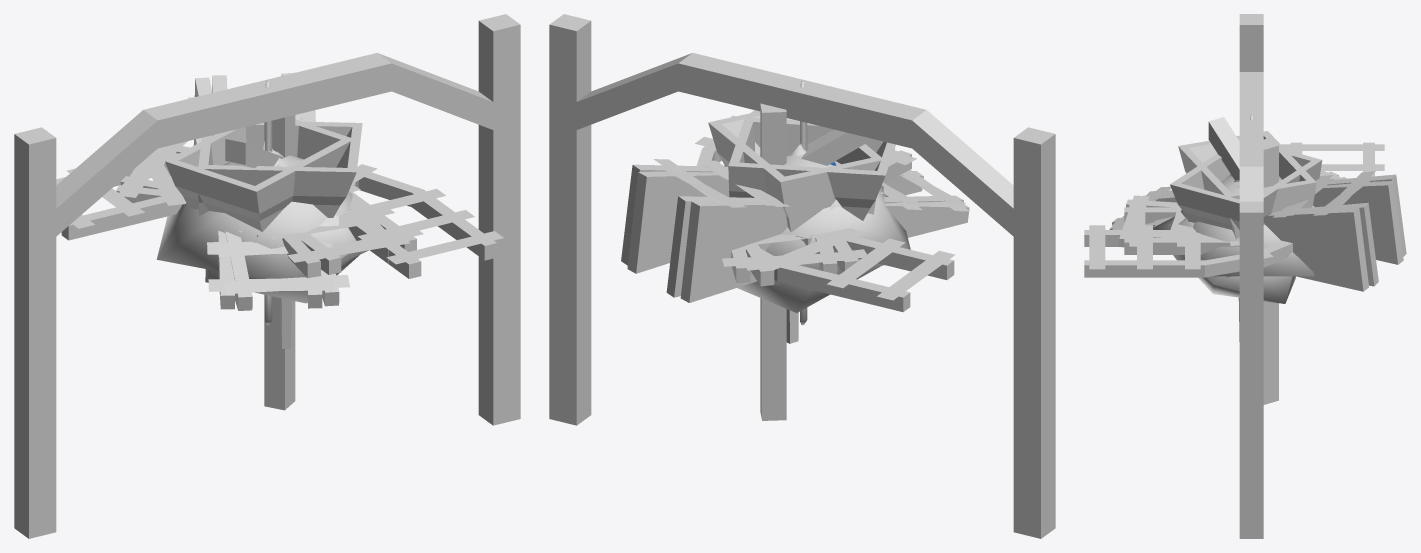
Rendered from MineProps_glb.glb.
3 views of the same model, side by side, from view 1: azimuth 30°, elevation 25°; view 2: azimuth 150°, elevation 25°; view 3: azimuth 270°, elevation 25° (orthographic). The views are drawn at different scales.
Visible parts, largest first — view 1: SupportBeam2, Cart_rusty, RockPile, Track_Curve_90_degrees_Rusty, Cart, SupportBeam, Track_Curve_90_degrees, Track_Curve_45_degrees, Track_ramp_15_degrees, Track_ramp_15_degrees_Rusty, Track_Curve_45_degrees_Rusty, Crystal Source; view 2: SupportBeam2, Track_ramp_15_degrees, Track_Curve_90_degrees_Rusty, Track_ramp_15_degrees_Rusty, SupportBeam, Cart_rusty, Cart, Track_Curve_90_degrees, RockPile, Track_Curve_45_degrees, Track_Curve_45_degrees_Rusty, Crystal Source; view 3: SupportBeam2, Track_ramp_15_degrees_Rusty, Track_Curve_90_degrees_Rusty, Cart, SupportBeam, Cart_rusty, Track_ramp_15_degrees, Track_Curve_45_degrees, RockPile, Crystal Source, Track_Curve_90_degrees, Track_Curve_45_degrees_Rusty.
Boxes of the visible parts, left/top/right/bottom form: SupportBeam2: left=14, top=14, right=520, bottom=538; Cart_rusty: left=165, top=119, right=350, bottom=232; RockPile: left=156, top=159, right=368, bottom=278; Track_Curve_90_degrees_Rusty: left=56, top=152, right=502, bottom=264; Cart: left=198, top=121, right=362, bottom=217; SupportBeam: left=225, top=115, right=295, bottom=410; Track_Curve_90_degrees: left=61, top=163, right=503, bottom=278; Track_Curve_45_degrees: left=116, top=146, right=423, bottom=274; Track_ramp_15_degrees: left=187, top=72, right=349, bottom=310; Track_ramp_15_degrees_Rusty: left=201, top=75, right=333, bottom=309; Track_Curve_45_degrees_Rusty: left=120, top=141, right=410, bottom=278; Crystal Source: left=205, top=214, right=359, bottom=303; SupportBeam2: left=549, top=14, right=1055, bottom=538; Track_ramp_15_degrees: left=627, top=165, right=965, bottom=302; Track_Curve_90_degrees_Rusty: left=695, top=110, right=955, bottom=311; Track_ramp_15_degrees_Rusty: left=621, top=159, right=969, bottom=297; SupportBeam: left=760, top=103, right=872, bottom=420; Cart_rusty: left=728, top=117, right=895, bottom=220; Cart: left=708, top=111, right=883, bottom=232; Track_Curve_90_degrees: left=711, top=116, right=954, bottom=311; RockPile: left=766, top=156, right=910, bottom=285; Track_Curve_45_degrees: left=743, top=149, right=901, bottom=286; Track_Curve_45_degrees_Rusty: left=722, top=150, right=917, bottom=283; Crystal Source: left=737, top=162, right=881, bottom=312; SupportBeam2: left=1239, top=14, right=1263, bottom=538; Track_ramp_15_degrees_Rusty: left=1111, top=176, right=1403, bottom=291; Track_Curve_90_degrees_Rusty: left=1084, top=142, right=1384, bottom=277; Cart: left=1170, top=139, right=1322, bottom=229; SupportBeam: left=1208, top=117, right=1278, bottom=404; Cart_rusty: left=1178, top=131, right=1316, bottom=239; Track_ramp_15_degrees: left=1109, top=171, right=1406, bottom=286; Track_Curve_45_degrees: left=1124, top=171, right=1342, bottom=254; RockPile: left=1173, top=176, right=1314, bottom=276; Crystal Source: left=1153, top=216, right=1295, bottom=303; Track_Curve_90_degrees: left=1084, top=143, right=1384, bottom=268; Track_Curve_45_degrees_Rusty: left=1117, top=174, right=1346, bottom=247.
Size of the model in its own units: 3.9 by 2.99 by 2.67.
2 materials, 1 textured.
